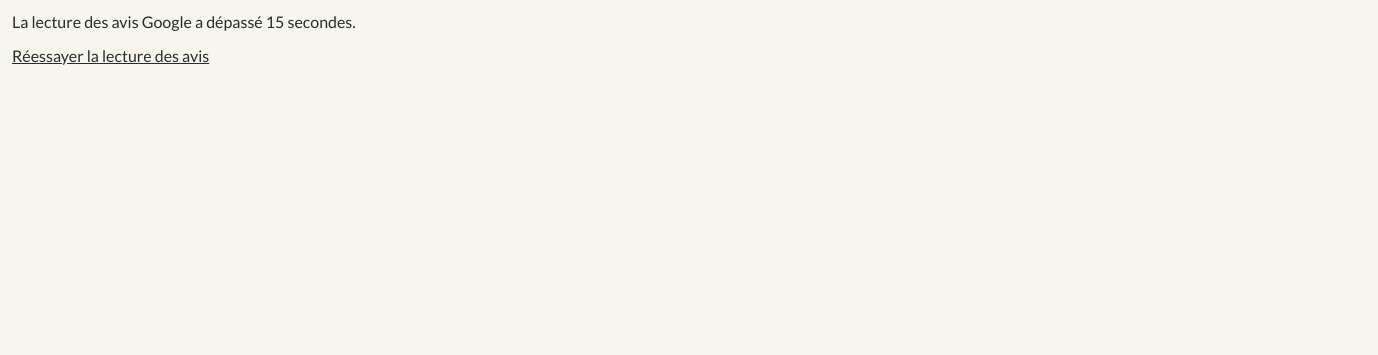
interrompt la lecture à 15 secondes et ignore la réponse expirée après reprise
The image size is (1378, 355).
Click the button "Réessayer la lecture des avis" at {"x": 111, "y": 55}, box [12, 43, 209, 68]
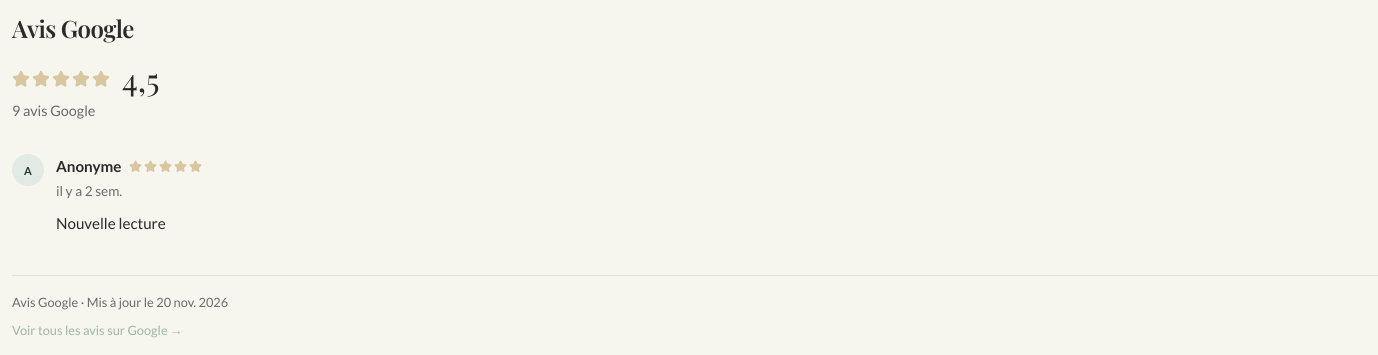
Now the text "Nouvelle lecture" is shown, box [56, 214, 166, 232]
